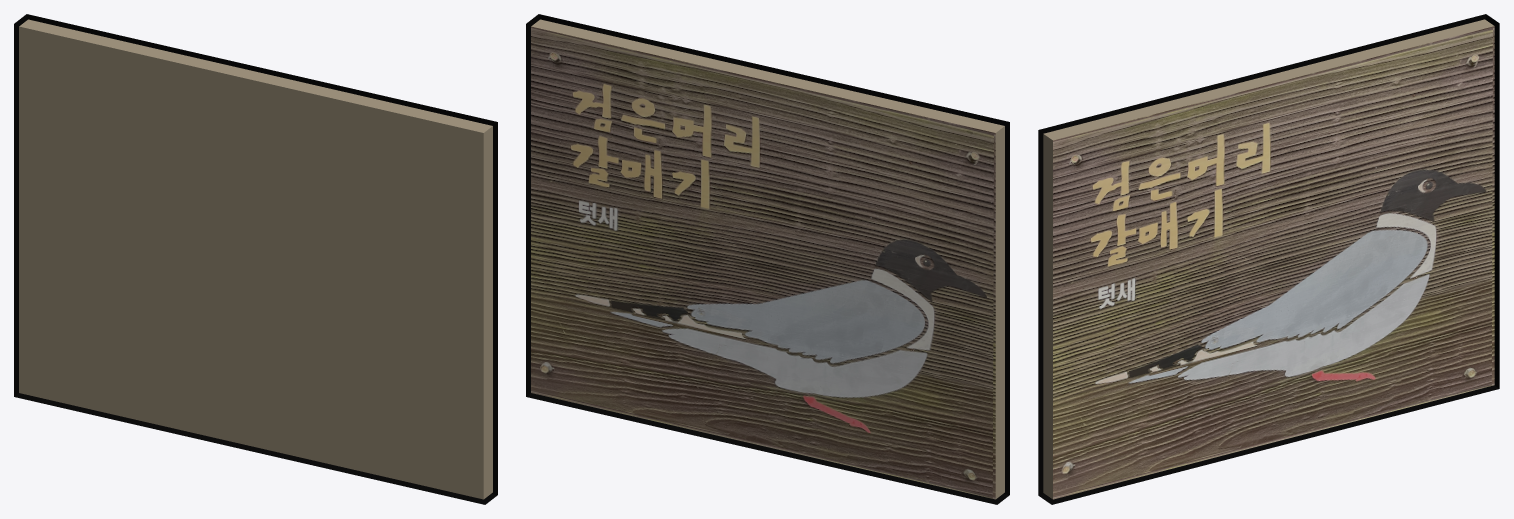
Rendered from blackhead.glb.
The picture shows the model from 3 angles, left to right: view 1: azimuth 30°, elevation 25°; view 2: azimuth 210°, elevation 25°; view 3: azimuth 270°, elevation 25°; orthographic projection. The views are drawn at different scales.
Visible parts, largest first — view 1: Cube.011; view 2: Cube.011; view 3: Cube.011.
Part boxes in pixels (x1,y1,x2,y2): Cube.011: (14,14,497,504); Cube.011: (526,14,1009,504); Cube.011: (1038,14,1499,504).
Size of the model in its own units: 0.485 by 0.6596 by 0.7542.
Materials: 3 (1 with a texture image).
